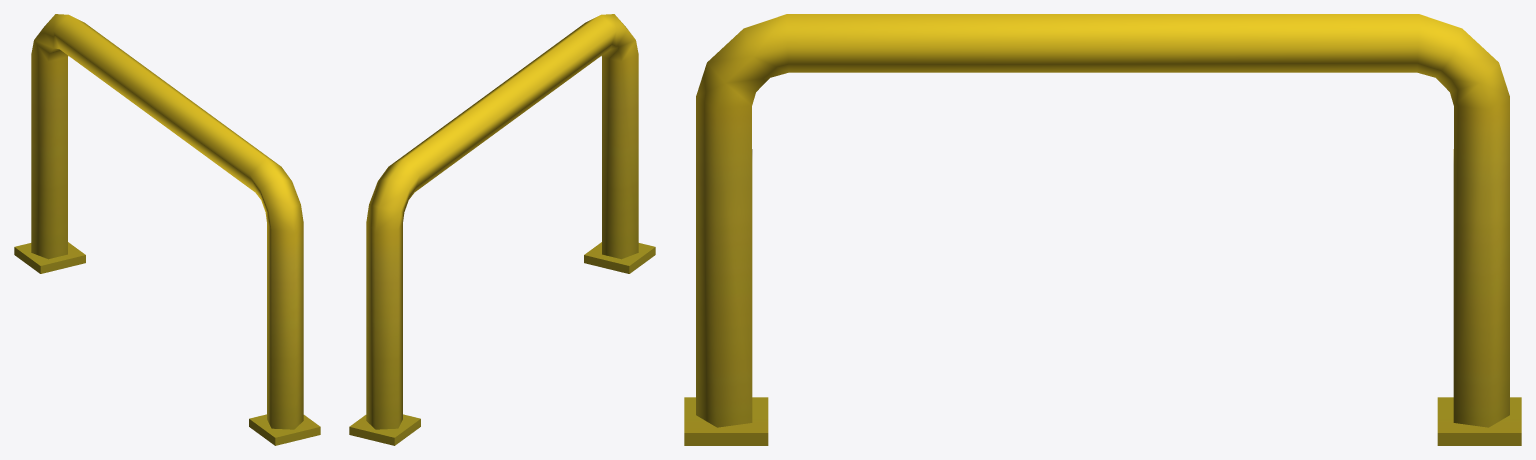
File: Bollards_1_A.fbx
3 renders of one model, left to right at view 1: azimuth 30°, elevation 25°; view 2: azimuth 150°, elevation 25°; view 3: azimuth 270°, elevation 25°, orthographic. The views are drawn at different scales.
Parts seen in each view (by area): view 1: Bollards_1_A; view 2: Bollards_1_A; view 3: Bollards_1_A.
Boxes of the visible parts, x1=… form: Bollards_1_A: x1=14, y1=14, x2=320, y2=445; Bollards_1_A: x1=349, y1=14, x2=655, y2=445; Bollards_1_A: x1=684, y1=14, x2=1521, y2=445.
Bounding box in the file's own units: 15.3 × 83.2 × 152.
